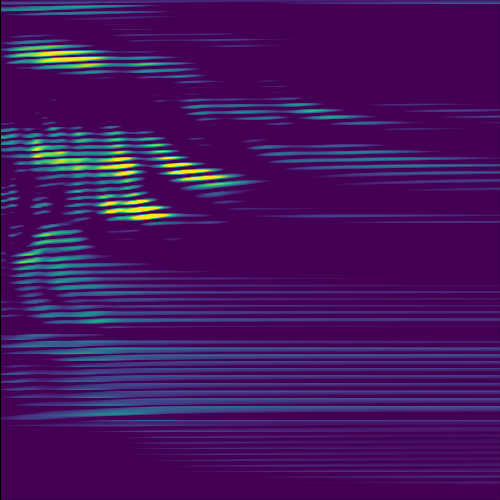semblance: (29, 134, 138, 177), (11, 38, 106, 72), (95, 193, 173, 226)
